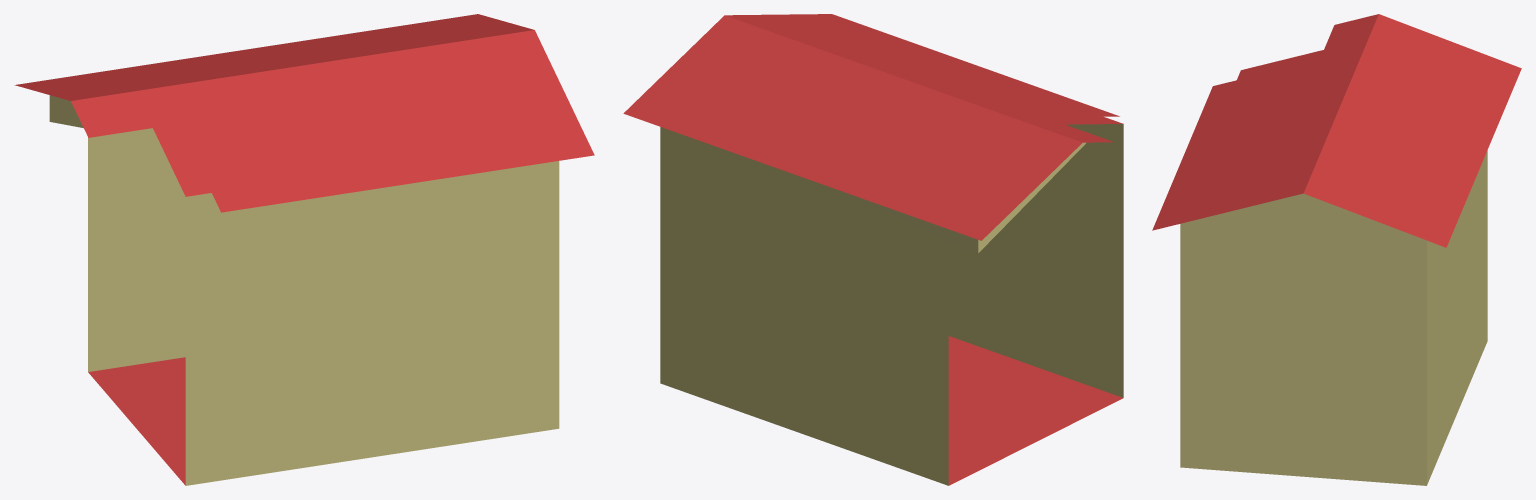
The picture shows the model from 3 angles, left to right: view 1: azimuth 30°, elevation 25°; view 2: azimuth 150°, elevation 25°; view 3: azimuth 270°, elevation 25°; orthographic projection. The views are drawn at different scales.
Size of the model in its own units: 14.17 by 11.44 by 10.02.
